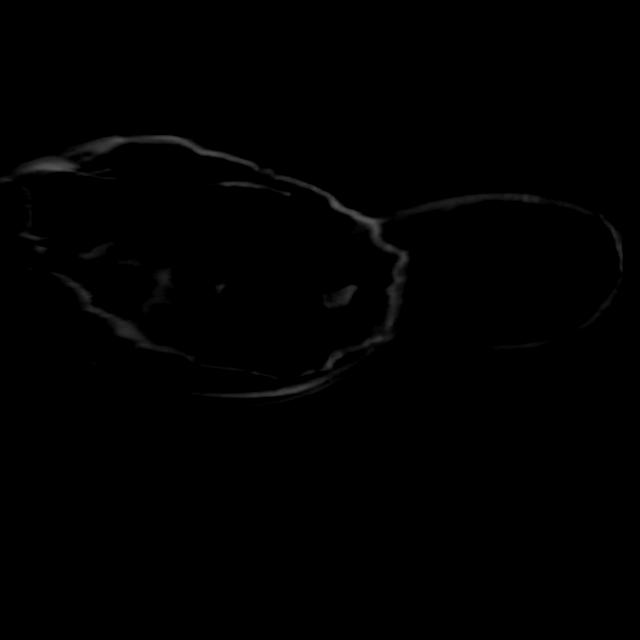Moon-jellyfish: (0, 127, 406, 413), (373, 186, 626, 355)
